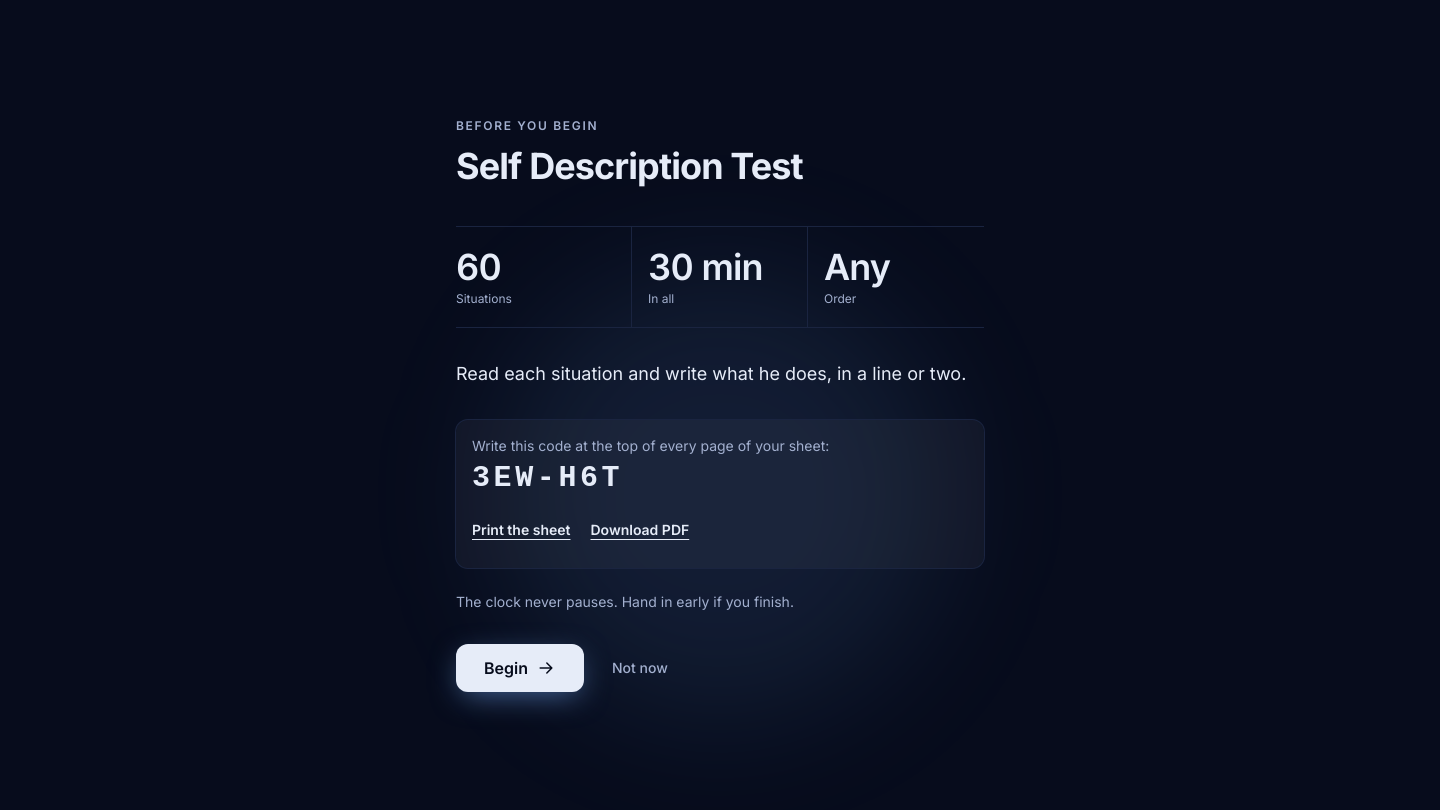
Test: PaperBookletRunner › runs SDT the same way: five prompts, no set
Click the button "Begin" at (520, 668), box [456, 644, 584, 692]
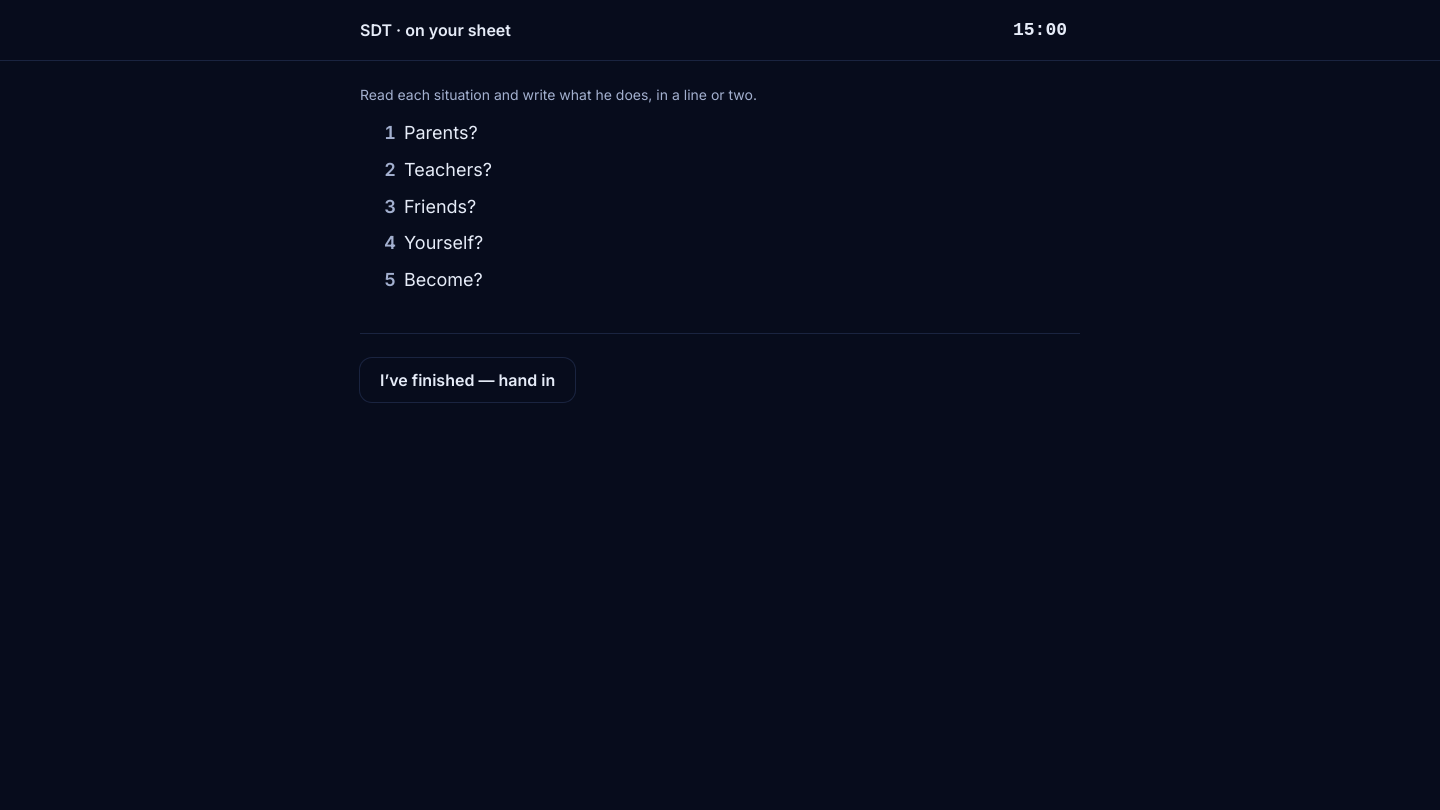
Check: the number of list items is 5, box [384, 122, 478, 143]; [384, 159, 492, 180]; [384, 196, 476, 216]; [384, 232, 483, 253]; [384, 269, 483, 290]
